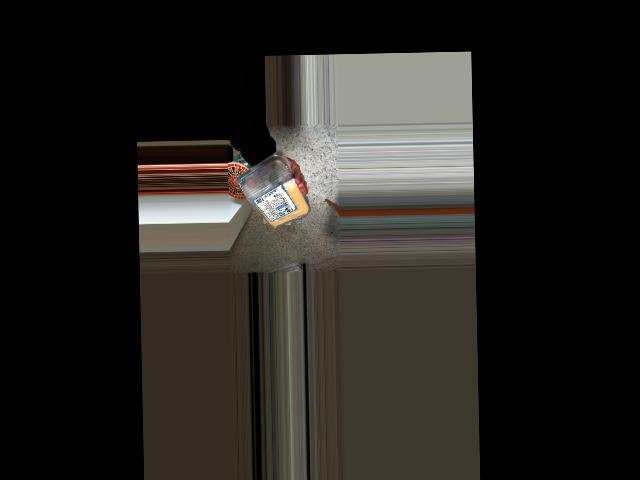cheese: (231, 168, 305, 230)
